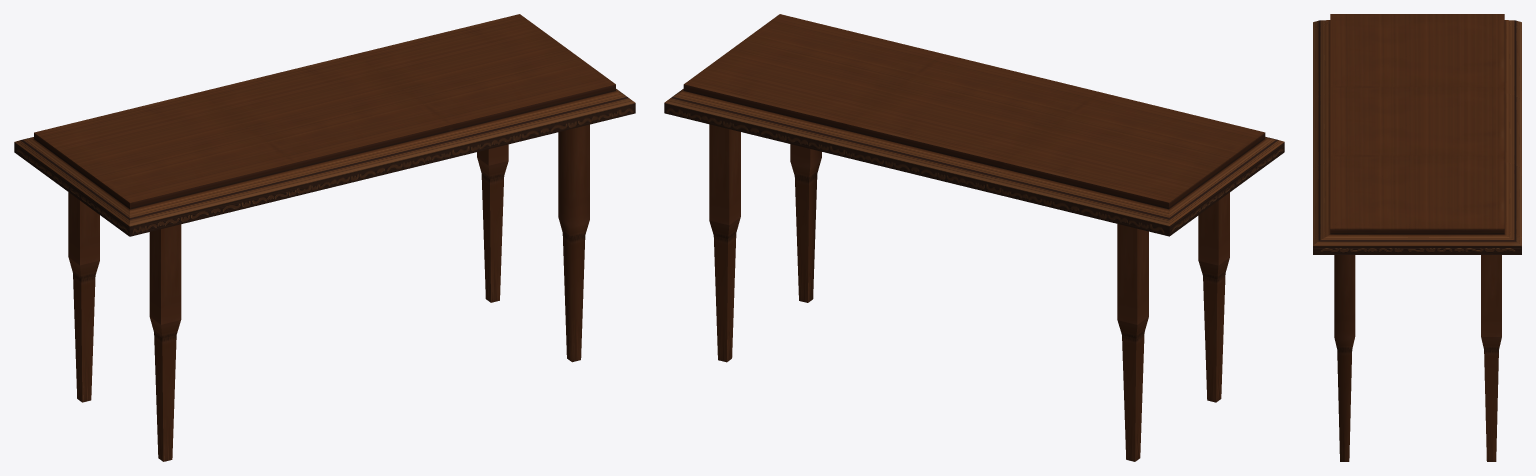
Rendered from Modular_Table.fbx.
3 views of the same model, side by side, from view 1: azimuth 30°, elevation 25°; view 2: azimuth 150°, elevation 25°; view 3: azimuth 270°, elevation 25° (orthographic). The views are drawn at different scales.
Visible parts, largest first — view 1: Bevelled_LFT_TnB4, Bevelled_RT_TnB6, Bevelled_MID_TnB5, pCube13, pCube11, pCube14, pCube12; view 2: Bevelled_LFT_TnB4, Bevelled_RT_TnB6, Bevelled_MID_TnB5, pCube14, pCube12, pCube13, pCube11; view 3: Bevelled_RT_TnB6, Bevelled_LFT_TnB4, Bevelled_MID_TnB5, pCube11, pCube12.
Boxes of the visible parts, box(x1,y1,x2,y2) form: Bevelled_LFT_TnB4: box(14, 92, 304, 236); Bevelled_RT_TnB6: box(355, 14, 635, 155); Bevelled_MID_TnB5: box(199, 54, 460, 193); pCube13: box(149, 224, 181, 461); pCube11: box(558, 124, 589, 362); pCube14: box(68, 192, 99, 402); pCube12: box(477, 144, 508, 302); Bevelled_LFT_TnB4: box(994, 92, 1284, 236); Bevelled_RT_TnB6: box(664, 14, 944, 155); Bevelled_MID_TnB5: box(839, 54, 1099, 193); pCube14: box(1117, 224, 1148, 461); pCube12: box(709, 124, 740, 362); pCube13: box(1198, 192, 1229, 402); pCube11: box(790, 144, 821, 302); Bevelled_RT_TnB6: box(1313, 155, 1521, 254); Bevelled_LFT_TnB4: box(1313, 14, 1521, 99); Bevelled_MID_TnB5: box(1313, 87, 1521, 167); pCube11: box(1334, 255, 1355, 461); pCube12: box(1481, 255, 1501, 461).
Size of the model in its own units: 131 by 67.33 by 51.66.
